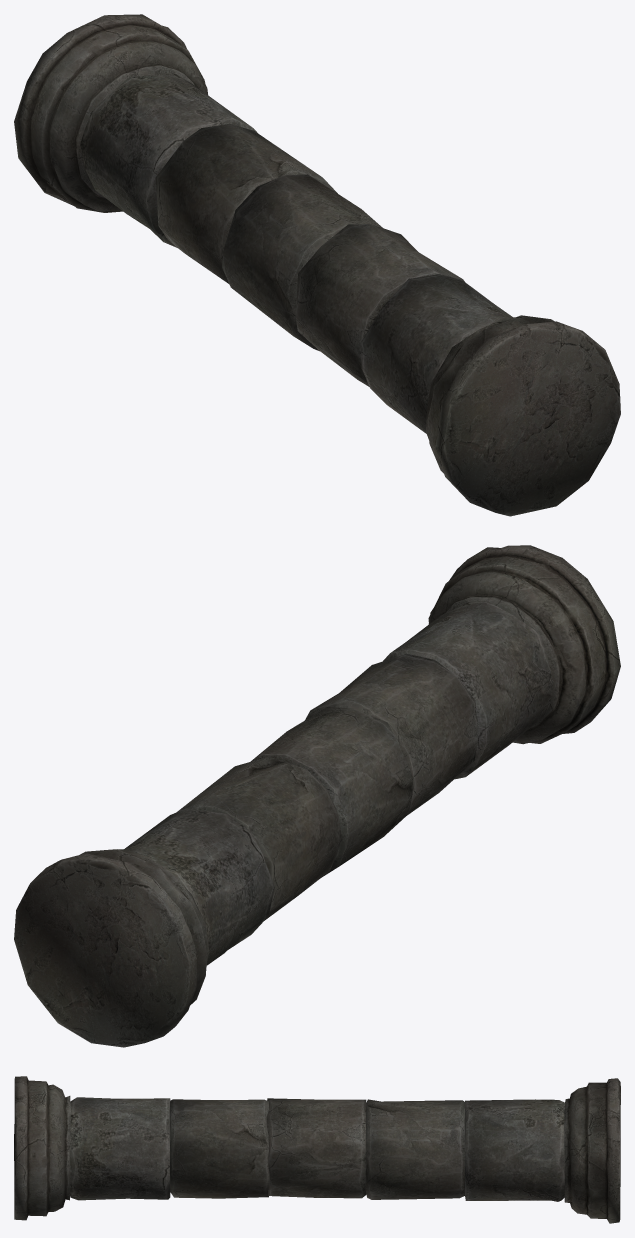
The model's file is TI_Pillar_01.fbx.
3 views of the same model, one above another, from view 1: azimuth 30°, elevation 25°; view 2: azimuth 150°, elevation 25°; view 3: azimuth 270°, elevation 25° (orthographic). The views are drawn at different scales.
Parts seen in each view (by area): view 1: TI_Pillar_01; view 2: TI_Pillar_01; view 3: TI_Pillar_01.
Part boxes in pixels (x1,y1,x2,y2): TI_Pillar_01: (14, 14, 620, 516); TI_Pillar_01: (14, 545, 620, 1047); TI_Pillar_01: (14, 1076, 620, 1223).
Bounding box in the file's own units: 1.53 × 1.54 × 6.4.
